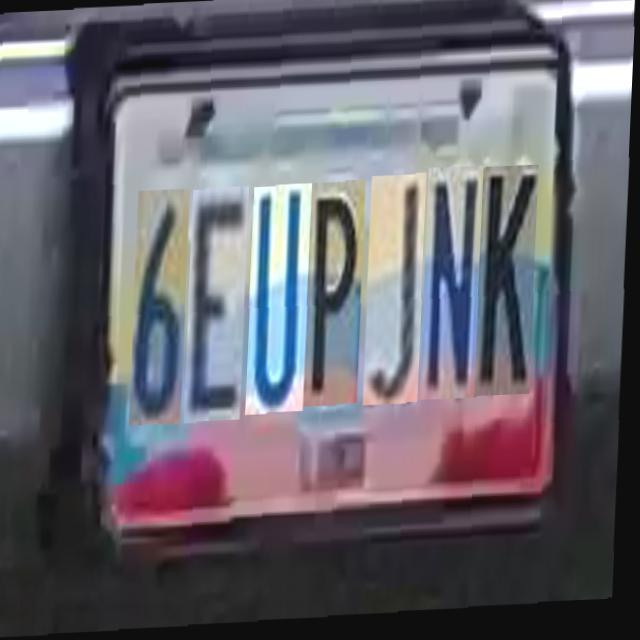6: (132, 182, 192, 419)
E: (187, 182, 250, 416)
J: (366, 174, 428, 405)
K: (477, 168, 540, 400)
N: (422, 168, 485, 402)
P: (306, 179, 367, 404)
U: (248, 180, 313, 410)
